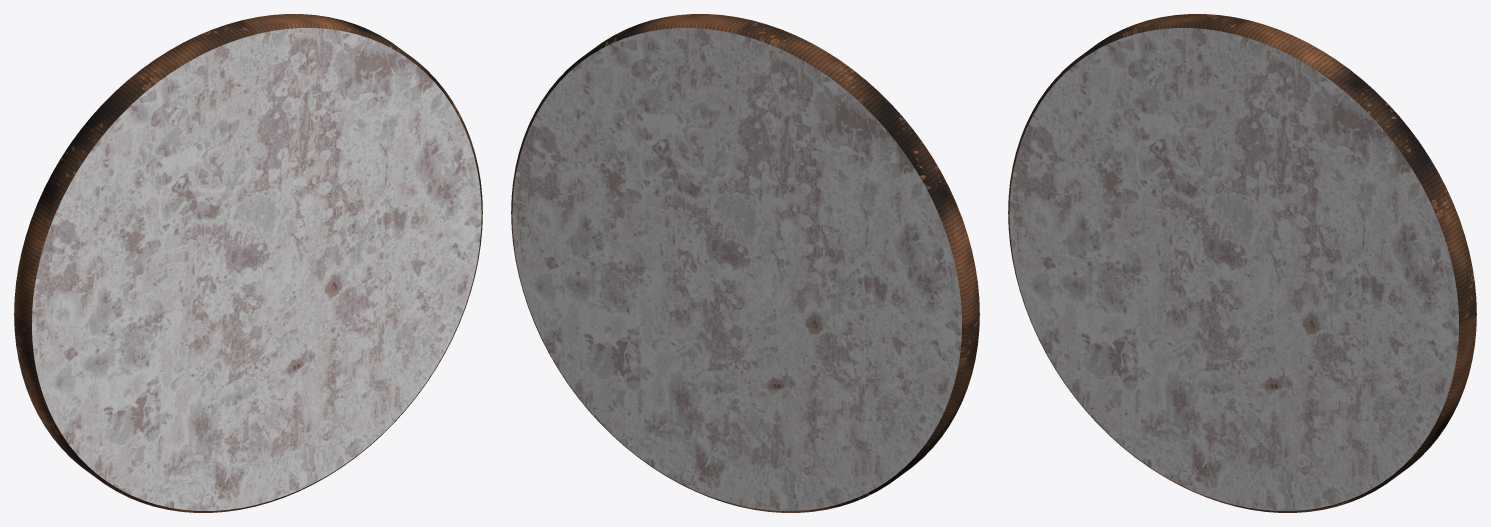
File: plate_6.glb
3 renders of one model, left to right at view 1: azimuth 30°, elevation 25°; view 2: azimuth 150°, elevation 25°; view 3: azimuth 330°, elevation 25°, orthographic.
Parts seen in each view (by area): view 1: plate_6; view 2: plate_6; view 3: plate_6.
Boxes of the visible parts, x1=… form: plate_6: x1=14, y1=14, x2=482, y2=512; plate_6: x1=511, y1=14, x2=979, y2=512; plate_6: x1=1008, y1=14, x2=1476, y2=512.
Bounding box in the file's own units: 0.1524 × 0.1524 × 0.00953.
3 materials, 3 textured.
